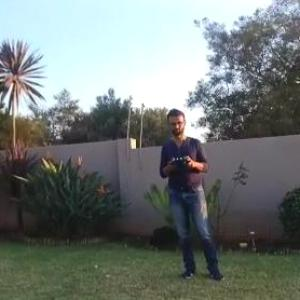follow: (155, 103, 230, 282)
